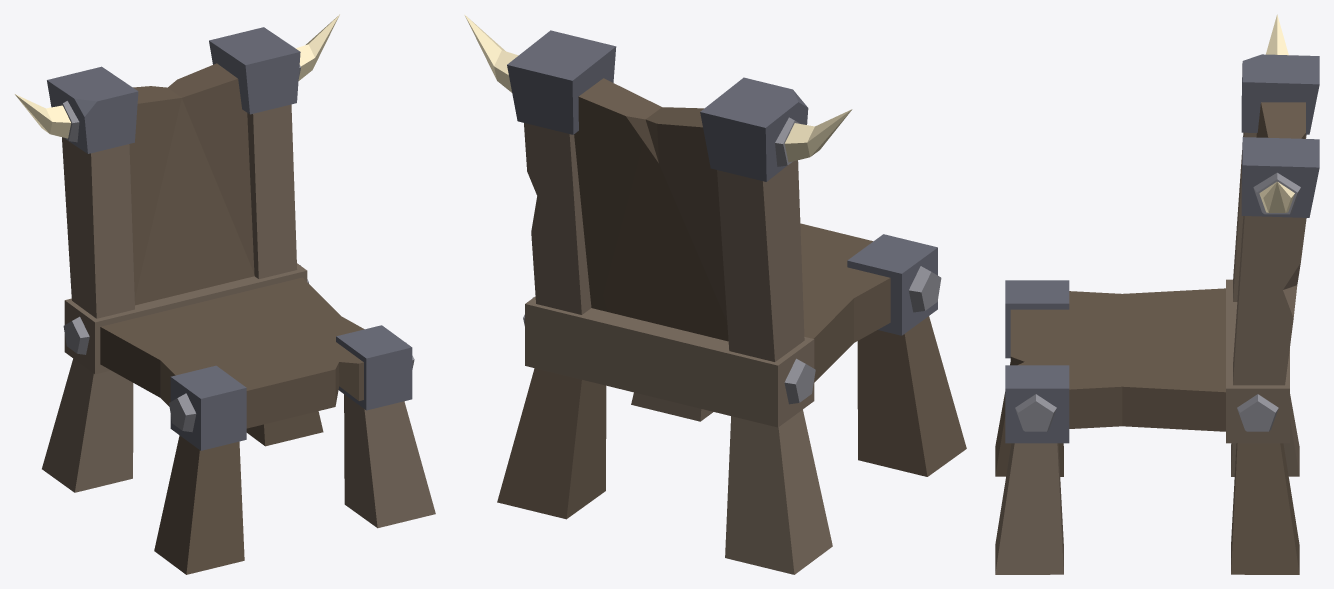
Rendered from chair_orc.glb.
3 renders of one model, left to right at view 1: azimuth 30°, elevation 25°; view 2: azimuth 150°, elevation 25°; view 3: azimuth 270°, elevation 25°, orthographic. The views are drawn at different scales.
Parts seen in each view (by area): view 1: chair1; view 2: chair1; view 3: chair1.
Part boxes in pixels (x1=…): chair1: x1=14, y1=14, x2=435, y2=574; chair1: x1=464, y1=14, x2=966, y2=574; chair1: x1=995, y1=14, x2=1319, y2=574.
Bounding box in the file's own units: 1.25 × 1.43 × 1.02.
Materials: 1 (1 with a texture image).
